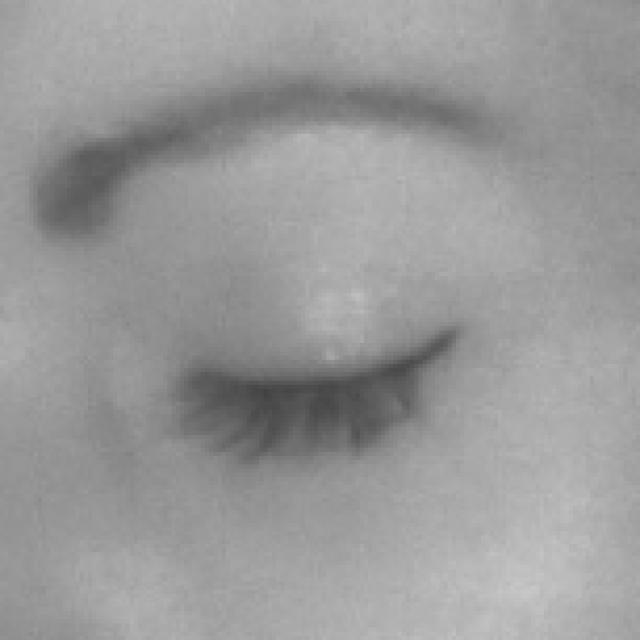close: (2, 43, 613, 503)
